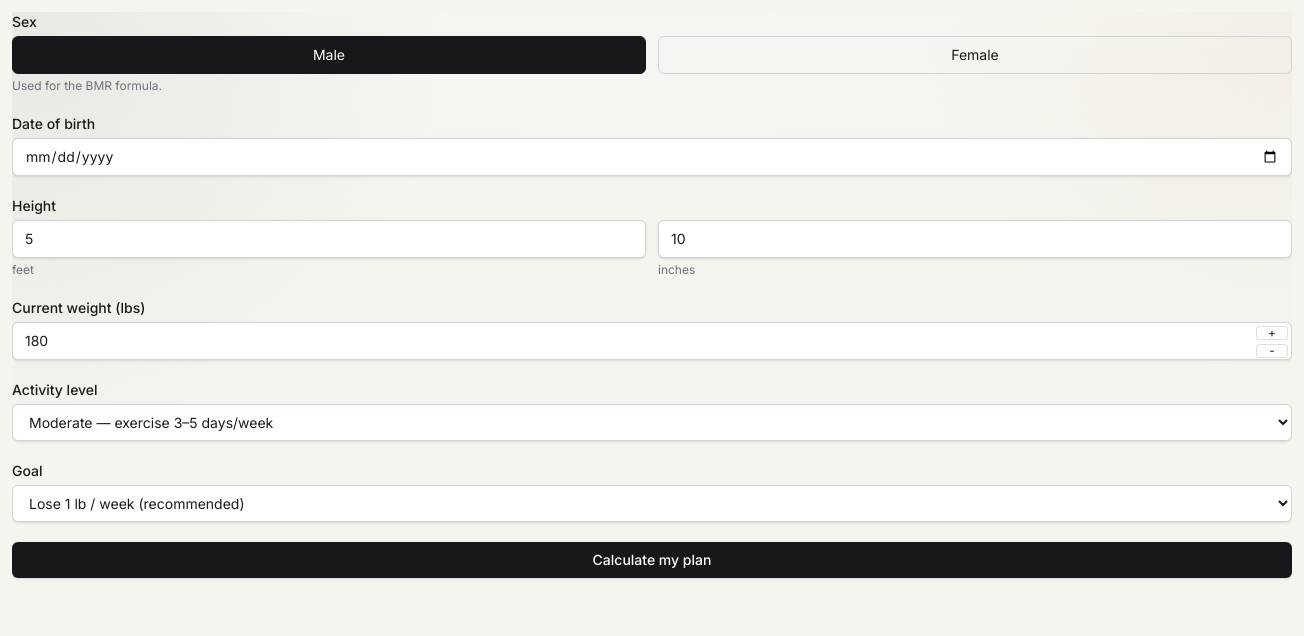
Test: OnboardingForm › validates profile input before moving to the plan step
This screenshot has width=1304, height=636.
Step 1. Submit the form named "Calculate my plan"
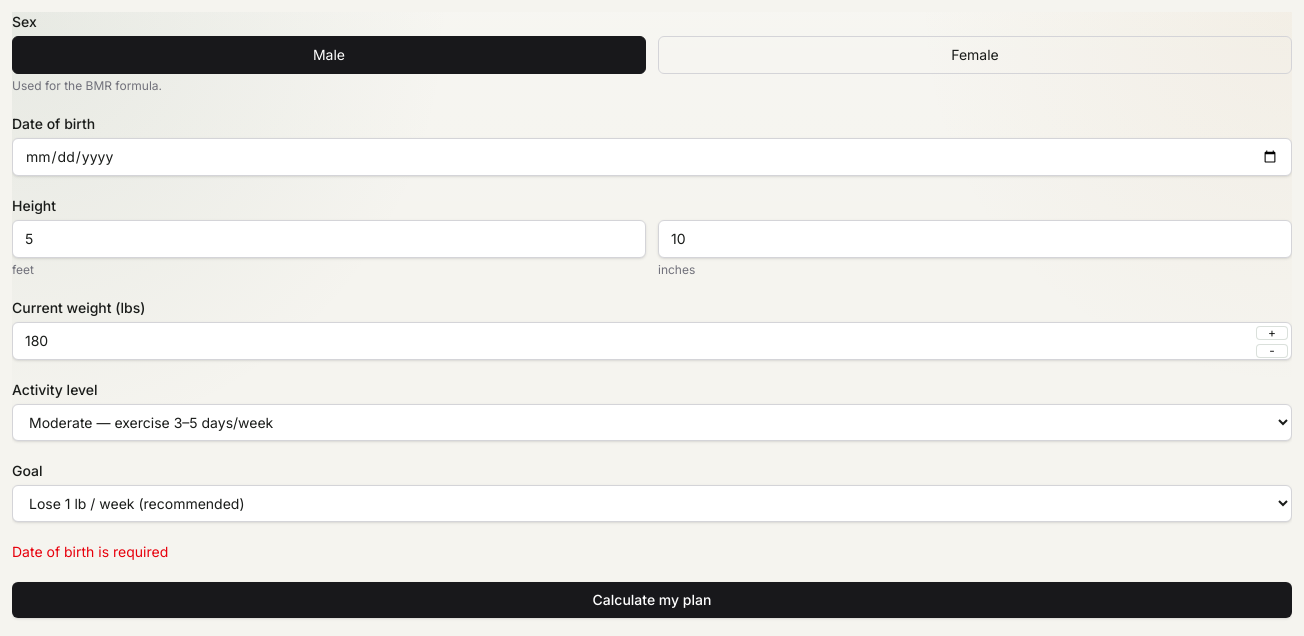
Check: the text "Date of birth is required" is shown, box [12,543,168,560]
Step 2. Type "1990-01-01" into the date field labelled "Date of birth" → (652,157), box [12,138,1292,176]
Step 3. Replace the text in the number field named "feet" with "2" → (329,239), box [12,220,646,258]
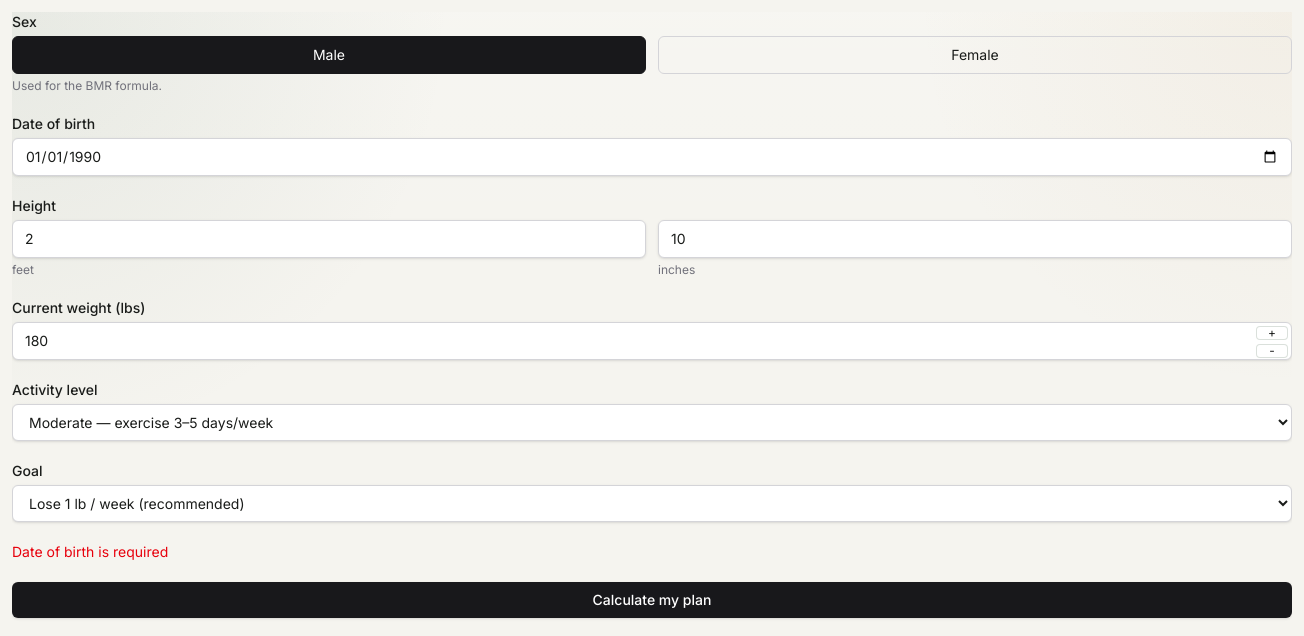
Step 4. Submit the form named "Calculate my plan"
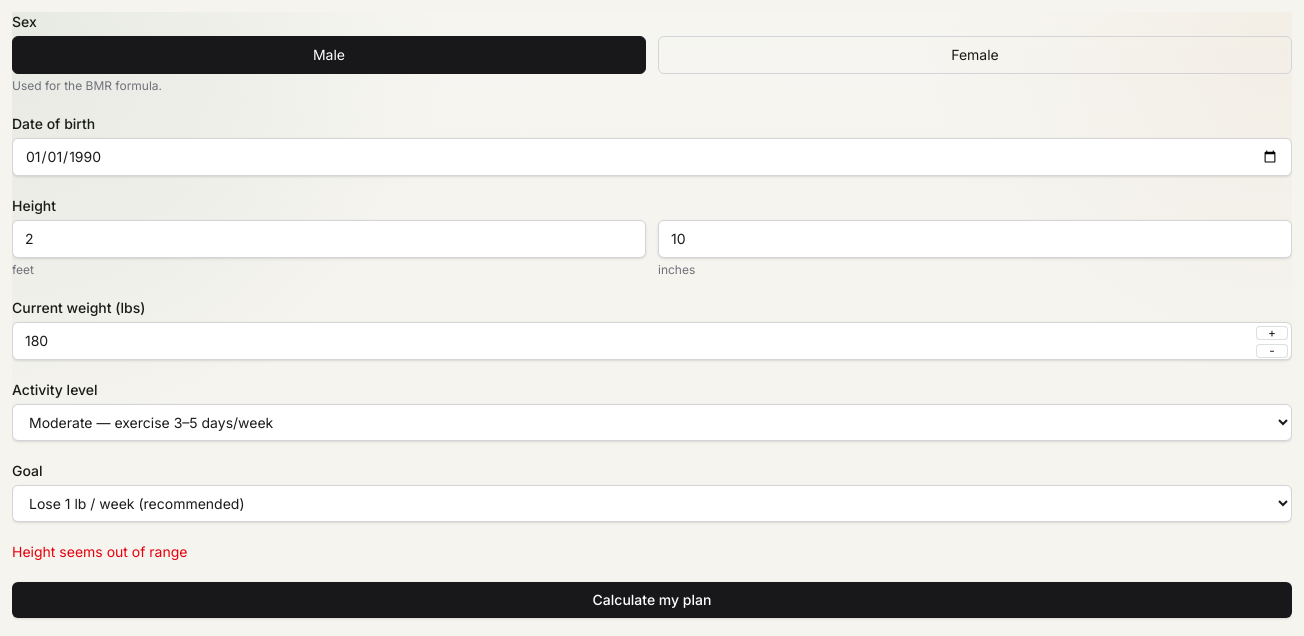
Check: the text "Height seems out of range" is shown, box [12,543,188,560]
Step 5. Replace the text in the number field named "feet" with "5" → (329,239), box [12,220,646,258]
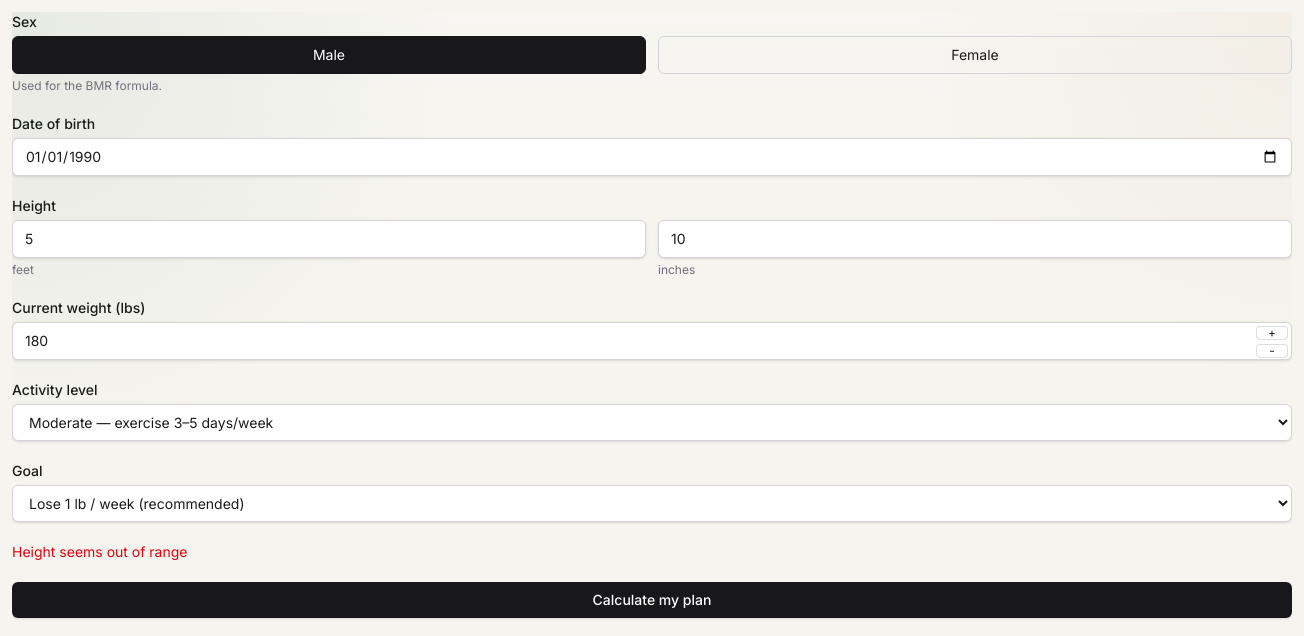
Step 6. Replace the text in the field labelled "Current weight (lbs)" with "50" → (652,341), box [12,322,1292,360]
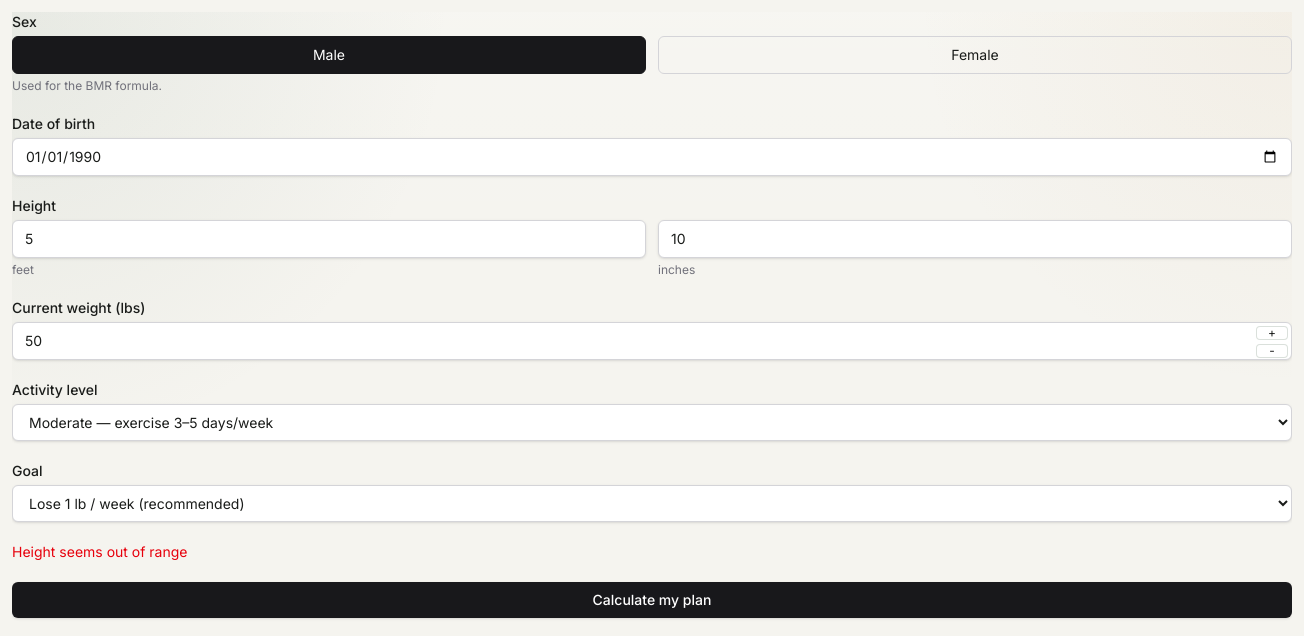
Step 7. Submit the form named "Calculate my plan"
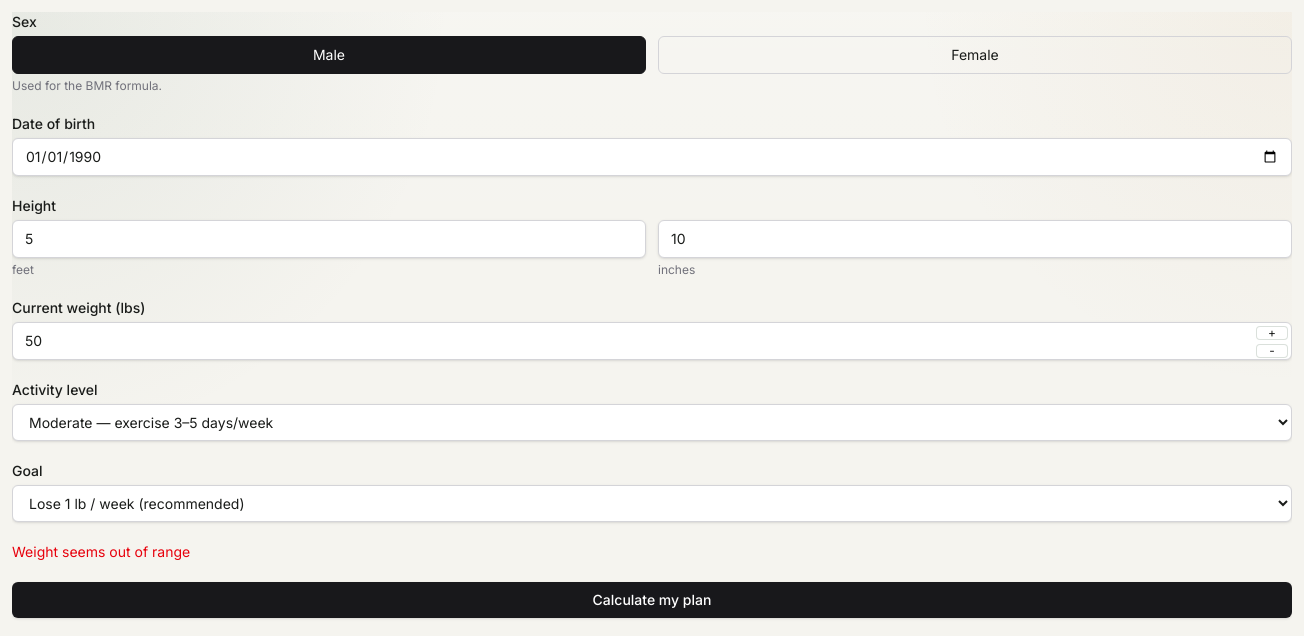
Check: the text "Weight seems out of range" is shown, box [12,543,190,560]
